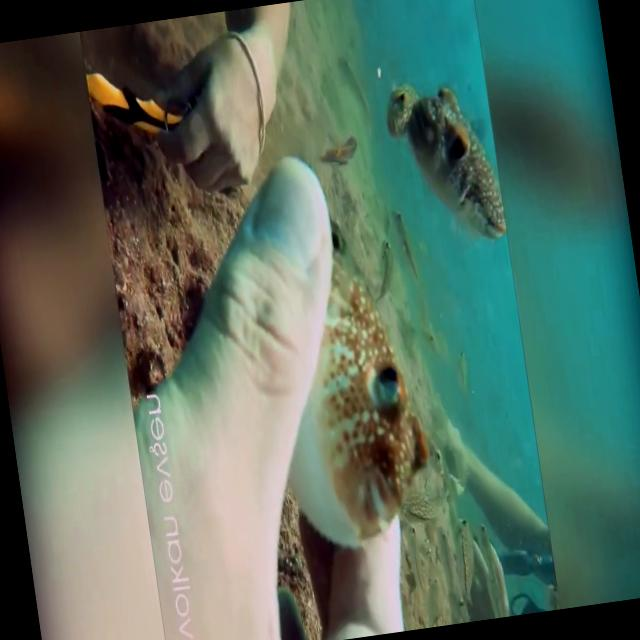Balon Baligi: (250, 208, 440, 554), (402, 81, 508, 247), (382, 76, 425, 138), (388, 207, 421, 284), (452, 516, 480, 604), (364, 238, 399, 302)
